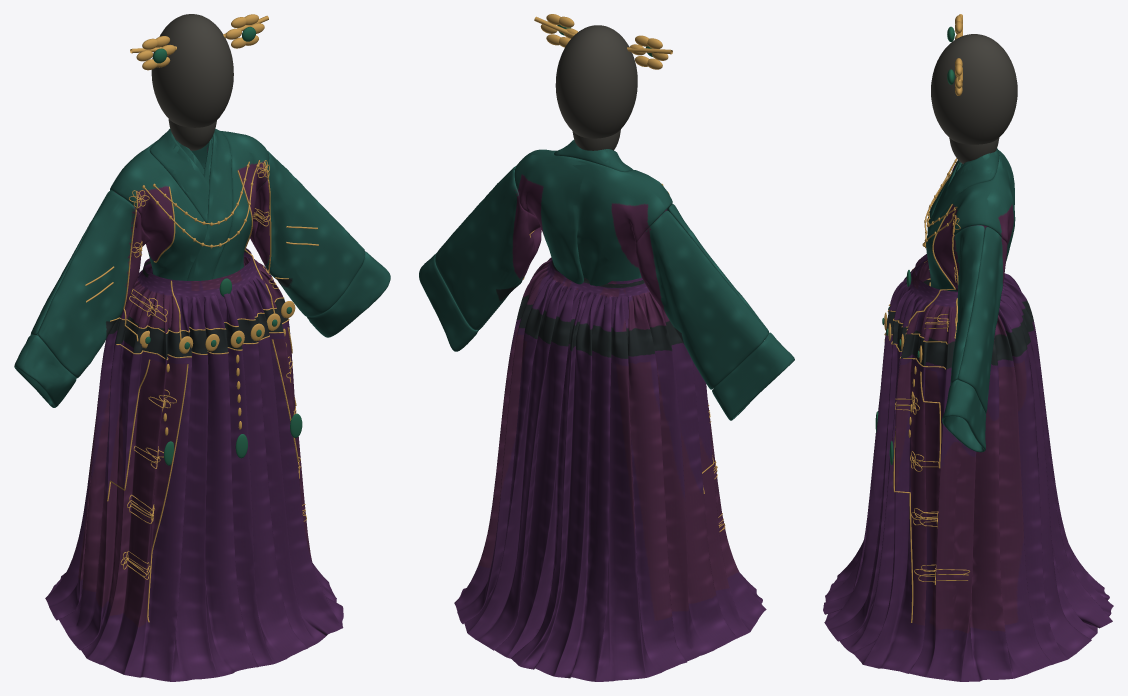
3 renders of one model, left to right at view 1: azimuth 30°, elevation 25°; view 2: azimuth 150°, elevation 25°; view 3: azimuth 270°, elevation 25°, orthographic.
Visible parts, largest first — view 1: CL_24CL0007_High; view 2: CL_24CL0007_High; view 3: CL_24CL0007_High.
Boxes of the visible parts, x1=… form: CL_24CL0007_High: x1=14, y1=14, x2=390, y2=681; CL_24CL0007_High: x1=419, y1=14, x2=794, y2=681; CL_24CL0007_High: x1=823, y1=14, x2=1113, y2=681.
Bounding box in the file's own units: 1.09 × 1.66 × 0.7489.
Materials: 5 (2 with a texture image).
